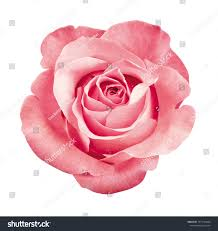lale: (1, 11, 218, 213)
